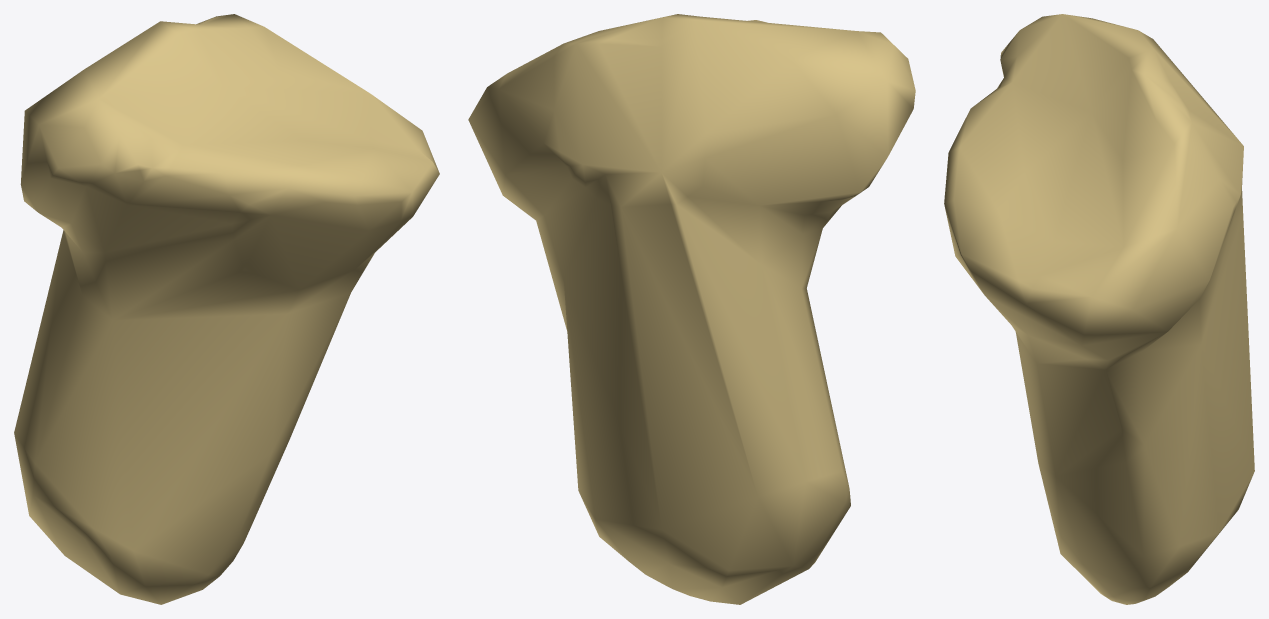
3 views of the same model, side by side, from view 1: azimuth 30°, elevation 25°; view 2: azimuth 150°, elevation 25°; view 3: azimuth 270°, elevation 25° (orthographic). The views are drawn at different scales.
Visible parts, largest first — view 1: 右侧第三趾远节趾骨; view 2: 右侧第三趾远节趾骨; view 3: 右侧第三趾远节趾骨.
Boxes of the visible parts, x1,y1,x2,y2 form: 右侧第三趾远节趾骨: (14,14,439,604); 右侧第三趾远节趾骨: (468,14,915,604); 右侧第三趾远节趾骨: (944,14,1254,604).
Size of the model in its own units: 0.013 by 0.0177 by 0.00908.
